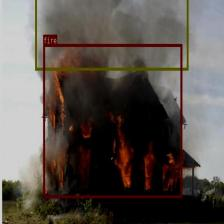fire: (43, 44, 182, 197)
smoke: (35, 0, 188, 70)
